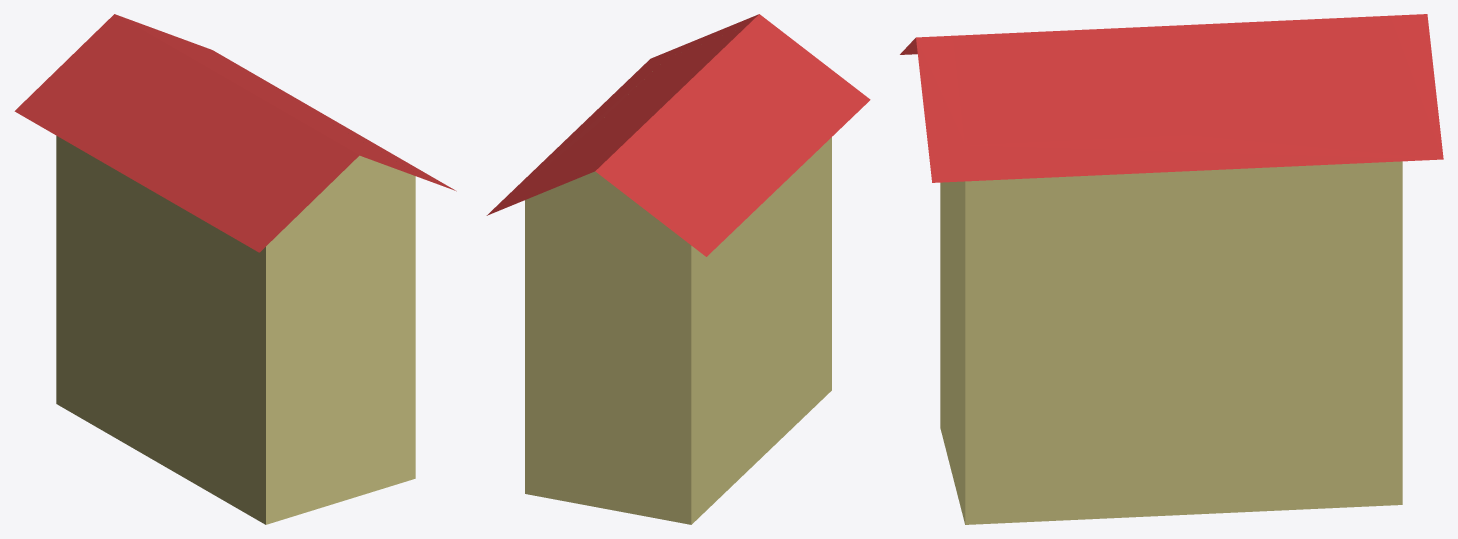
The picture shows the model from 3 angles, left to right: view 1: azimuth 30°, elevation 25°; view 2: azimuth 150°, elevation 25°; view 3: azimuth 270°, elevation 25°; orthographic projection. The views are drawn at different scales.
Size of the model in its own units: 4.81 by 7.31 by 6.54.
